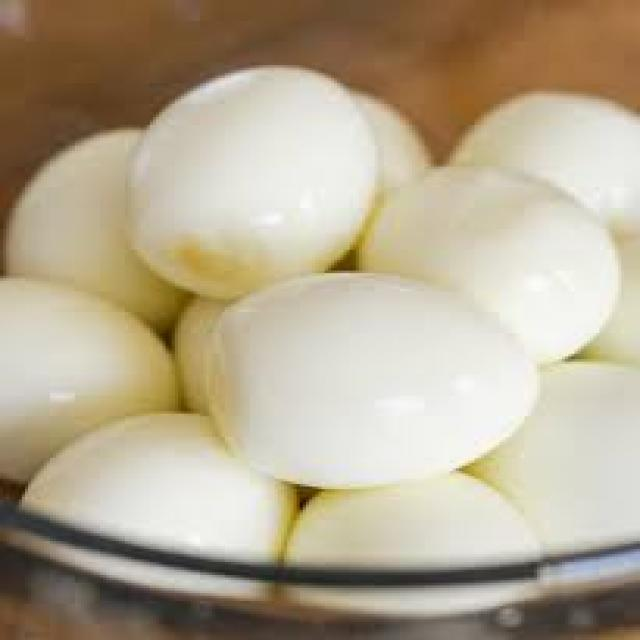Boiled Egg: (95, 74, 590, 566)
